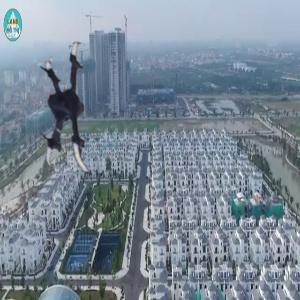drone: (15, 46, 145, 176)
